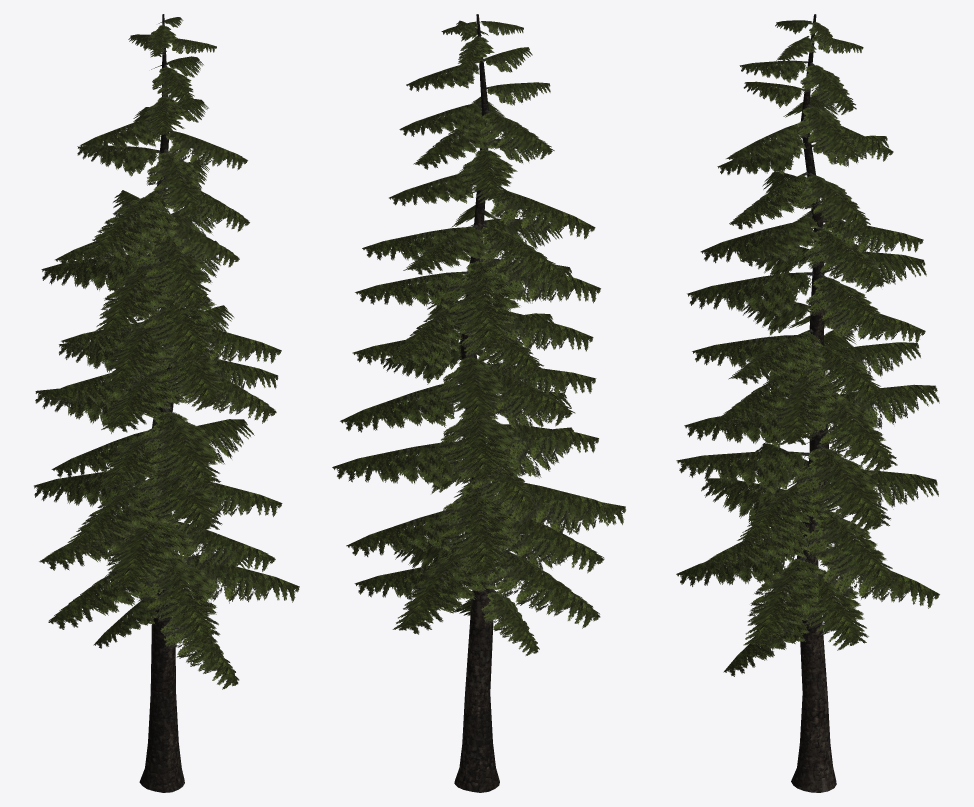
Rendered from tree_2.glb.
The picture shows the model from 3 angles, left to right: view 1: azimuth 30°, elevation 25°; view 2: azimuth 150°, elevation 25°; view 3: azimuth 270°, elevation 25°; orthographic projection.
Parts seen in each view (by area): view 1: tree_2_leaves, tree_2; view 2: tree_2_leaves, tree_2; view 3: tree_2_leaves, tree_2.
Part boxes in pixels (x1=…): tree_2_leaves: x1=34, y1=14, x2=299, y2=689; tree_2: x1=139, y1=14, x2=184, y2=792; tree_2_leaves: x1=332, y1=14, x2=625, y2=655; tree_2: x1=454, y1=14, x2=499, y2=792; tree_2_leaves: x1=676, y1=14, x2=939, y2=676; tree_2: x1=791, y1=14, x2=836, y2=792.
Size of the model in its own units: 1.46 by 4.13 by 1.43.
Materials: 2 (2 with a texture image).
